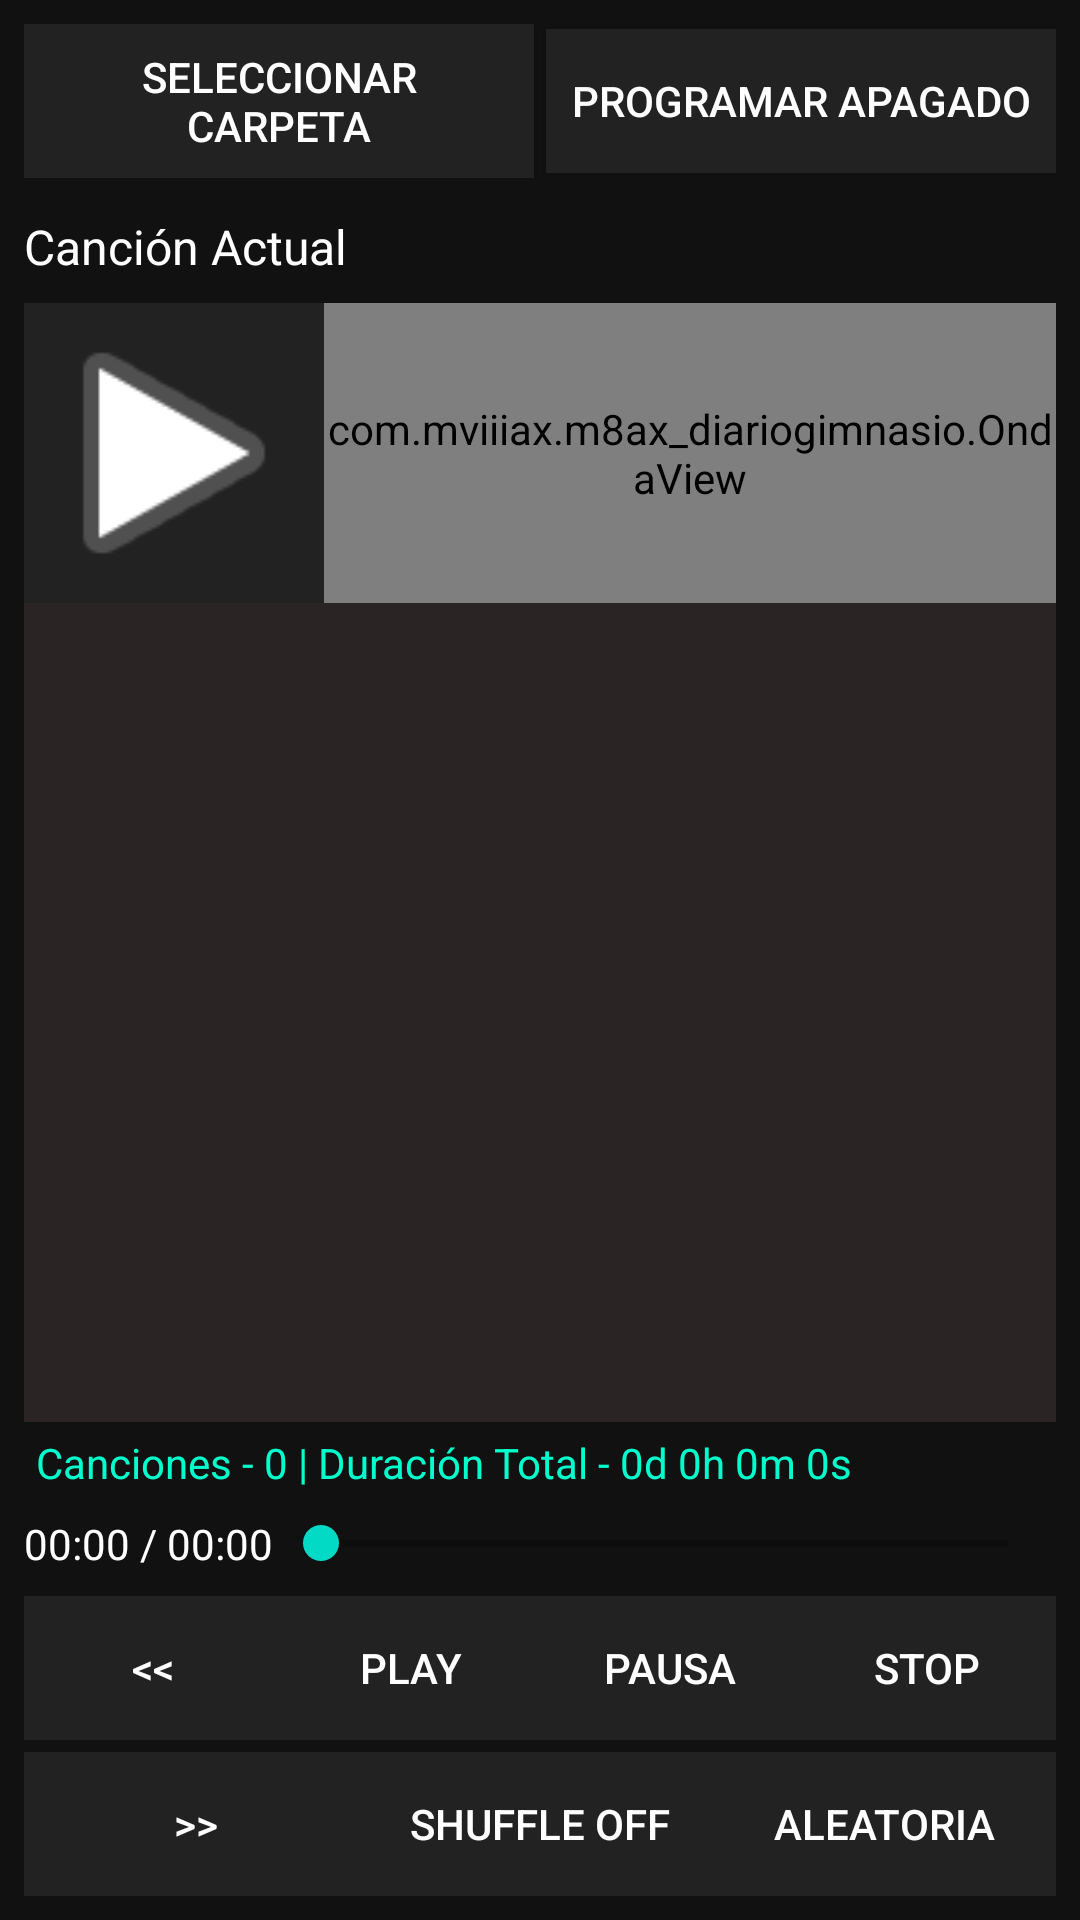

Icons on this 1080 x 1920 Android screen, each with its box as (x1, y1, x2, y2):
play: (83, 353, 265, 553)
